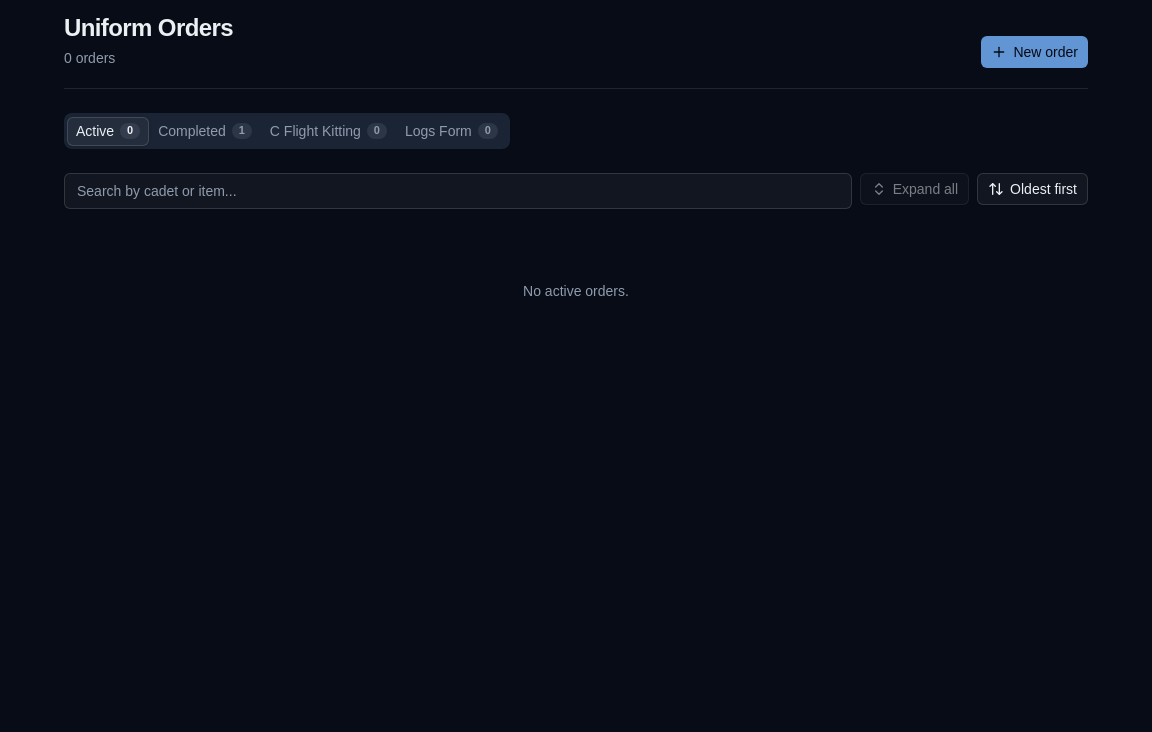
Test: undoing a given item › offers no Undo on a completed order
The image size is (1152, 732).
Click the tab "Completed 1" at [205, 131], box [149,116,261,146]
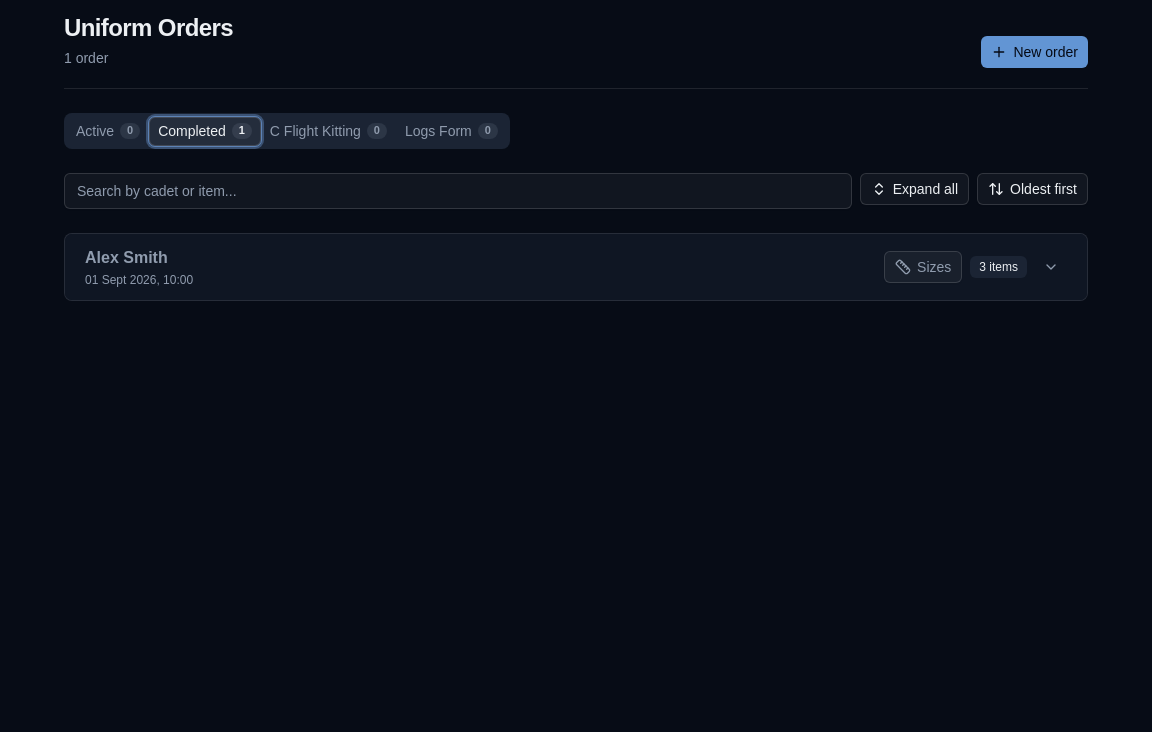
Now the link "Alex Smith" is shown, box [85,246,168,270]
Click the button named "Expand order for Alex Smith" at [1051, 267], box [1035,251,1067,283]
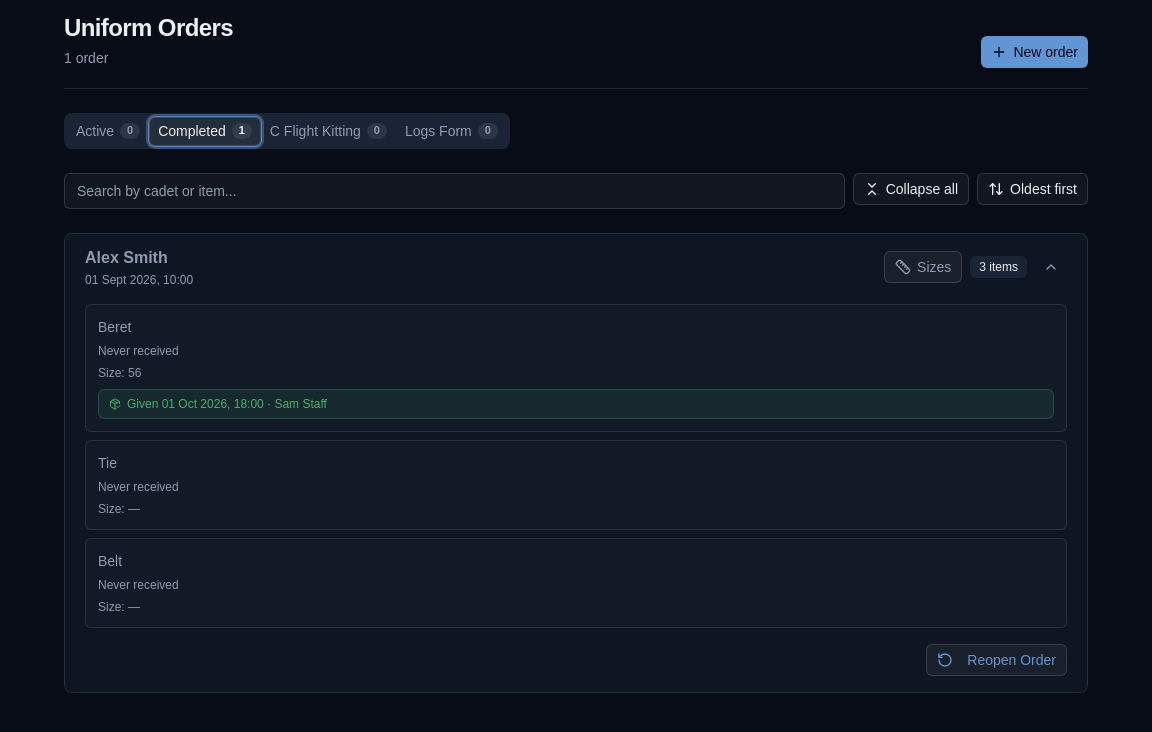
Now the text "Given 01 Oct 2026, 18:00 · Sam Staff" is shown, box [127,397,327,411]
